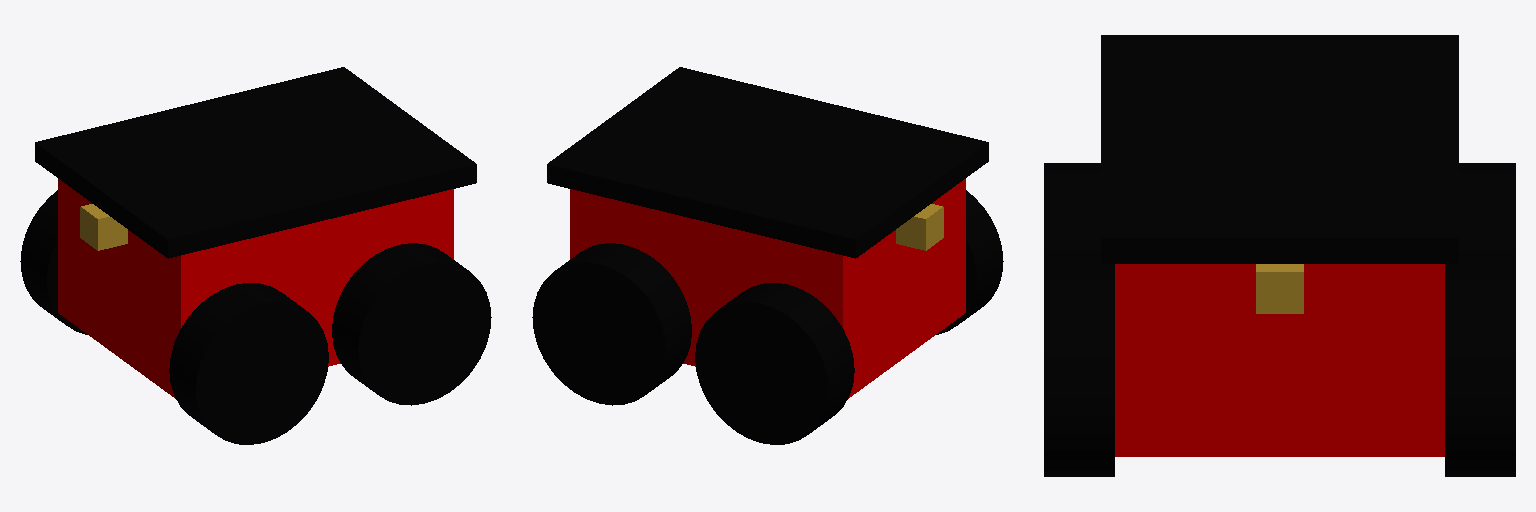
URDF robot description (Pioneer_2-AT_8):
<?xml version="1.0"?>
<robot name="Pioneer_2-AT_8">

<!--Se define el color de los materiales utilizados.-->

  <material name="red">
    <color rgba="0.851 0.0 0.0 1.0"/>
  </material>
  <material name="black">
    <color rgba="0.038 0.038 0.038 1.0"/>
  </material>
  <material name="yellow">
    <color rgba="0.715 0.583 0.210 1.0"/>
  </material>


<!--Comenzamos definiendo cada una de las partes que componen el Pioneer y sus correspondientes uniones(joint)-->

<!-- Chasis -->

<link name="base_link">

    <visual>
      <geometry>
        <box size="0.45 0.35 0.24"/>
      </geometry>
      <origin rpy="0 0 0" xyz="0 0 0.175"/>
      <material name="red"/>
    </visual>

    <collision>
      <geometry>
        <box size="0.45 0.35 0.24"/>
      </geometry>
      <origin rpy="0 0 0" xyz="0 0 0.175"/>
    </collision> 

    <inertial>
      <mass value="17"/>
      <!-- 14kg con una bateria mas otras 2 de 1,5kg cada una = 17kg-->
      <inertia ixx="0.4" ixy="0.0" ixz="0.0" iyy="0.4" iyz="0.0" izz="0.2"/>
      <!--origin xyz=" -0.1 0 0.177"/>-->
    </inertial>
    
 </link>


<!-- Cubierta superior -->

<link name="cubierta_link">

    <visual>
      <geometry>
        <box size="0.51 0.38 0.03"/>
        <origin rpy="0 0 0" xyz="0 0 0"/>
      </geometry>
      
      <material name="black"/>
    </visual>

    <collision>
      <geometry>
        <box size="0.51 0.38 0.03"/>
        <origin rpy="0 0 0" xyz="0 0 0"/>
      </geometry>
      
    </collision> 

    <inertial>
      <mass value="0.1"/>
      <!--Tomo un valor aproximado(Puede considerarse simbolico)-->
      <!--origin xyz="-0.025 0 -0.223"/>-->
      <inertia ixx="1.0" ixy="0.0" ixz="0.0" iyy="1.0" iyz="0.0" izz="1.0"/>
      <!--Matriz de inercias = 1 debido a su bajo efecto-->
    </inertial>
    
 </link>

<joint name="base_cubierta" type="fixed">
    <origin  xyz="0 0 0.31" rpy="0 0 0" />
    <parent link="base_link"/>
    <child link="cubierta_link"/>
  </joint>


<!--Sonar sensor: --> 

<link name="Sonar_delantero_link">

    <visual>
      <geometry>
        <box size="0.05 0.05 0.05"/>
      </geometry>
      <origin rpy="0 0 0" xyz="0 0 0"/>
      <material name="yellow"/>
    </visual>

    <collision>
      <geometry>
        <box size="0.05 0.05 0.05"/>
      </geometry>
      <origin rpy="0 0 0" xyz="0 0 0"/>
    </collision> 

    <inertial>
      <mass value="0.1"/>
      <!--Tomo un valor aproximado(Puede considerarse simbolico)-->
      <!--<origin xyz="-0.025 0 -0.223"/>-->
      <inertia ixx="1.0" ixy="0.0" ixz="0.0" iyy="1.0" iyz="0.0" izz="1.0"/>
      <!--Matriz de inercias = 1 debido a su bajo efecto-->
    </inertial>

</link>


<link name="Sonar_trasero_link">

    <visual>
      <geometry>
        <box size="0.05 0.05 0.05"/>
      </geometry>
      <origin rpy="0 0 0" xyz="0 0 0"/>
      <material name="yellow"/>
    </visual>

    <collision>
      <geometry>
        <box size="0.05 0.05 0.05"/>
      </geometry>
      <origin rpy="0 0 0" xyz="0 0 0"/>
    </collision> 

    <inertial>
      <mass value="0.1"/>
      <!--Tomo un valor aproximado(Puede considerarse simbolico)-->
      <!--<origin xyz="-0.025 0 -0.223"/>-->
      <inertia ixx="1.0" ixy="0.0" ixz="0.0" iyy="1.0" iyz="0.0" izz="1.0"/>
      <!--Matriz de inercias = 1 debido a su bajo efecto-->
    </inertial>

</link>

<joint name="base_sonar_frontal_joint" type="fixed">
    <origin rpy="0 0 0" xyz="0.25 0 0.27"/>
    <parent link="base_link"/>
    <child link="Sonar_delantero_link"/>
  </joint>

<joint name="base_sonar_trasero_joint" type="fixed">
    <origin rpy="0 0 0" xyz="-0.25 0 0.27"/>
    <parent link="base_link"/>
    <child link="Sonar_trasero_link"/>
  </joint>


<!--Ruedas--> 

<link name="Rueda_izq_delantera_link">
      <visual>
      <origin rpy="0 0 0" xyz="0 0 0"/>
      <geometry>
         <cylinder length="0.075" radius="0.11"/>
      </geometry>
      <material name="black"/>
    </visual>

    <collision>
      <origin rpy="0 0 0" xyz="0 0 0"/>
      <geometry>
        <cylinder length="0.075" radius="0.11"/>
      </geometry>
    </collision>

    <inertial>
      <mass value="1.4"/>
      <!--<origin xyz="0 0 0"/>-->
      <inertia ixx="0.012411765597" ixy="0" ixz="0" iyy="0.015218160428" iyz="0" izz="0.011763977943"/>
    </inertial>

  </link>

<joint name="base_ruedaizqdel_joint" type="continuous">
    <axis xyz="0 0 1"/>
    <!--<limit effort="80" velocity="0.268"/>-->
    <joint_properties damping="0.7"/>
    <origin rpy="-1.57079635 0 0" xyz="0.134 0.2125 0.11"/>
    <parent link="base_link"/>
    <child link="Rueda_izq_delantera_link"/>
  </joint>

<gazebo reference="Rueda_izq_delantera_link">
      <mu1 value="200.0"/>
      <mu2 value="100.0"/>
      <kp value="10000000.0" />
      <kd value="1.0" />
      <material>Gazebo/Grey</material>
    </gazebo>

<transmission name="rueda_izq_delantera">
    <type>transmission_interface/SimpleTransmission</type>
    <actuator name="rueda_izq_del_motor">
      <mechanicalReduction>1</mechanicalReduction>
    </actuator>
    <joint name="base_ruedaizqdel_joint">
      <hardwareInterface>VelocityJointInterface</hardwareInterface>
    </joint>
  </transmission>


<link name="Rueda_der_delantera_link">
      <visual>
      <origin rpy="0 0 0" xyz="0 0 0"/>
      <geometry>
        <cylinder length="0.075" radius="0.11"/>
      </geometry>
      <material name="black"/>
    </visual>

    <collision>
      <origin rpy="0 0 0" xyz="0 0 0"/>
      <geometry>
        <cylinder length="0.075" radius="0.11"/>
      </geometry>
    </collision>

    <inertial>
      <mass value="1.4"/>
      <!--<origin xyz="0 0 0"/>-->
      <inertia ixx="0.012411765597" ixy="0" ixz="0" iyy="0.015218160428" iyz="0" izz="0.011763977943"/>
    </inertial>

  </link>

<joint name="base_ruedaderdel_joint" type="continuous">
    <axis xyz="0 0 1"/>
    <!--<limit effort="80" velocity="0.268"/>-->
    <joint_properties damping="0.7"/>
    <origin rpy="-1.57079635 0 0" xyz="0.134 -0.2125 0.11"/>
    <parent link="base_link"/>
    <child link="Rueda_der_delantera_link"/>
  </joint>

<gazebo reference="Rueda_der_delantera_link">
      <mu1 value="200.0"/>
      <mu2 value="100.0"/>
      <kp value="10000000.0" />
      <kd value="1.0" />
      <material>Gazebo/Grey</material>
    </gazebo>

<transmission name="rueda_der_delantera">
    <type>transmission_interface/SimpleTransmission</type>
    <actuator name="rueda_der_del_motor">
      <mechanicalReduction>1</mechanicalReduction>
    </actuator>
    <joint name="base_ruedaderdel_joint">
      <hardwareInterface>VelocityJointInterface</hardwareInterface>
    </joint>
  </transmission>

<link name="Rueda_izq_trasera_link">
      <visual>
      <origin rpy="0 0 0" xyz="0 0 0"/>
      <geometry>
        <cylinder length="0.075" radius="0.11"/>
      </geometry>
      <material name="black"/>
    </visual>

    <collision>
      <origin rpy="0 0 0" xyz="0 0 0"/>
      <geometry>
        <cylinder length="0.075" radius="0.11"/>
      </geometry>
    </collision>

    <inertial>
      <mass value="1.4"/>
      <!--<origin xyz="0 0 0"/>-->
      <inertia ixx="0.012411765597" ixy="0" ixz="0" iyy="0.015218160428" iyz="0" izz="0.011763977943"/>
    </inertial>

  </link>

<joint name="base_ruedaizqtra_joint" type="continuous">
    <axis xyz="0 0 1"/>
    <!--<limit effort="80" velocity="0.268"/>-->
    <joint_properties damping="0.7"/>
    <origin rpy="-1.57079635 0 0" xyz="-0.134 0.2125 0.11"/>
    <parent link="base_link"/>
    <child link="Rueda_izq_trasera_link"/>
  </joint>

<gazebo reference="Rueda_izq_trasera_link">
      <mu1 value="200.0"/>
      <mu2 value="100.0"/>
      <kp value="10000000.0" />
      <kd value="1.0" />
      <material>Gazebo/Grey</material>
    </gazebo>

<transmission name="rueda_izq_trasera">
    <type>transmission_interface/SimpleTransmission</type>
    <actuator name="rueda_izq_tras_motor">
      <mechanicalReduction>1</mechanicalReduction>
    </actuator>
    <joint name="base_ruedaizqtra_joint">
      <hardwareInterface>VelocityJointInterface</hardwareInterface>
    </joint>
  </transmission>

<link name="Rueda_der_trasera_link">
      <visual>
      <origin rpy="0 0 0" xyz="0 0 0"/>
      <geometry>
        <cylinder length="0.075" radius="0.11"/>
      </geometry>
      <material name="black"/>
    </visual>

    <collision>
      <origin rpy="0 0 0" xyz="0 0 0"/>
      <geometry>
        <cylinder length="0.075" radius="0.11"/>
      </geometry>
    </collision>

    <inertial>
      <mass value="1.4"/>
      <!--<origin xyz="0 0 0"/>-->
      <inertia ixx="0.012411765597" ixy="0" ixz="0" iyy="0.015218160428" iyz="0" izz="0.011763977943"/>
    </inertial>

  </link>

<joint name="base_ruedadertra_joint" type="continuous">
    <axis xyz="0 0 1"/>
    <!--<limit effort="80" velocity="0.268"/>-->
    <joint_properties damping="0.7"/>
    <origin rpy="-1.57079635 0 0" xyz="-0.134 -0.2125 0.11"/>
    <parent link="base_link"/>
    <child link="Rueda_der_trasera_link"/>
  </joint>

<gazebo reference="Rueda_der_trasera_link">
      <mu1 value="200.0"/>
      <mu2 value="100.0"/>
      <kp value="10000000.0" />
      <kd value="1.0" />
      <material>Gazebo/Grey</material>
    </gazebo>

<transmission name="rueda_der_trasera">
    <type>transmission_interface/SimpleTransmission</type>
    <actuator name="rueda_der_tra_motor">
      <mechanicalReduction>1</mechanicalReduction>
    </actuator>
    <joint name="base_ruedadertra_joint">
      <hardwareInterface>VelocityJointInterface</hardwareInterface>
    </joint>
  </transmission>

  <!-- Gazebo plugin for ROS Control -->
  <gazebo>
    <plugin name="gazebo_ros_control" filename="libgazebo_ros_control.so">
      <robotNamespace>/</robotNamespace>
    </plugin>
  </gazebo>

<gazebo reference="base_link">
      <material>Gazebo/Red</material>
</gazebo>

<gazebo reference="cubierta_link">
      <material>Gazebo/Black</material>
</gazebo>

<gazebo reference="Sonar_delantero_link">
      <material>Gazebo/Yellow</material>
</gazebo>

<gazebo reference="Sonar_trasero_link">
      <material>Gazebo/Yellow</material>
</gazebo>

</robot>

 

--- What the picture shows (computed from the rendered views, not written in the file) ---
3 views of the same robot in one strip: view 1: azimuth 30°, elevation 25°; view 2: azimuth 150°, elevation 25°; view 3: azimuth 270°, elevation 25° (orthographic).
Robot: Pioneer_2-AT_8 — 8 links, 7 joints (4 continuous, 3 fixed); root link base_link; default pose: every joint at zero.
Visible links, largest first — view 1: cubierta_link, base_link, Rueda_der_trasera_link, Rueda_der_delantera_link, Rueda_izq_trasera_link, Sonar_trasero_link; view 2: cubierta_link, base_link, Rueda_izq_trasera_link, Rueda_izq_delantera_link, Rueda_der_trasera_link, Sonar_trasero_link; view 3: cubierta_link, base_link, Rueda_izq_delantera_link, Rueda_der_delantera_link, Rueda_izq_trasera_link, Rueda_der_trasera_link, Sonar_delantero_link.
Link boxes in pixels (<box>): cubierta_link: <box>35,67,476,258</box>; base_link: <box>58,179,453,398</box>; Rueda_der_trasera_link: <box>169,283,328,444</box>; Rueda_der_delantera_link: <box>332,243,491,405</box>; Rueda_izq_trasera_link: <box>20,190,87,334</box>; Sonar_trasero_link: <box>80,204,127,250</box>; cubierta_link: <box>547,67,988,258</box>; base_link: <box>570,179,965,398</box>; Rueda_izq_trasera_link: <box>695,283,854,444</box>; Rueda_izq_delantera_link: <box>532,243,691,405</box>; Rueda_der_trasera_link: <box>936,190,1003,334</box>; Sonar_trasero_link: <box>896,204,943,250</box>; cubierta_link: <box>1101,35,1458,263</box>; base_link: <box>1115,264,1444,456</box>; Rueda_izq_delantera_link: <box>1445,270,1515,476</box>; Rueda_der_delantera_link: <box>1044,270,1114,476</box>; Rueda_izq_trasera_link: <box>1445,163,1515,269</box>; Rueda_der_trasera_link: <box>1044,163,1114,269</box>; Sonar_delantero_link: <box>1256,264,1303,313</box>.
Bounding box of the posed robot: 0.55 × 0.5 × 0.325 m (x, y, z).
Geometry: primitives only (box / cylinder / sphere), no mesh files.